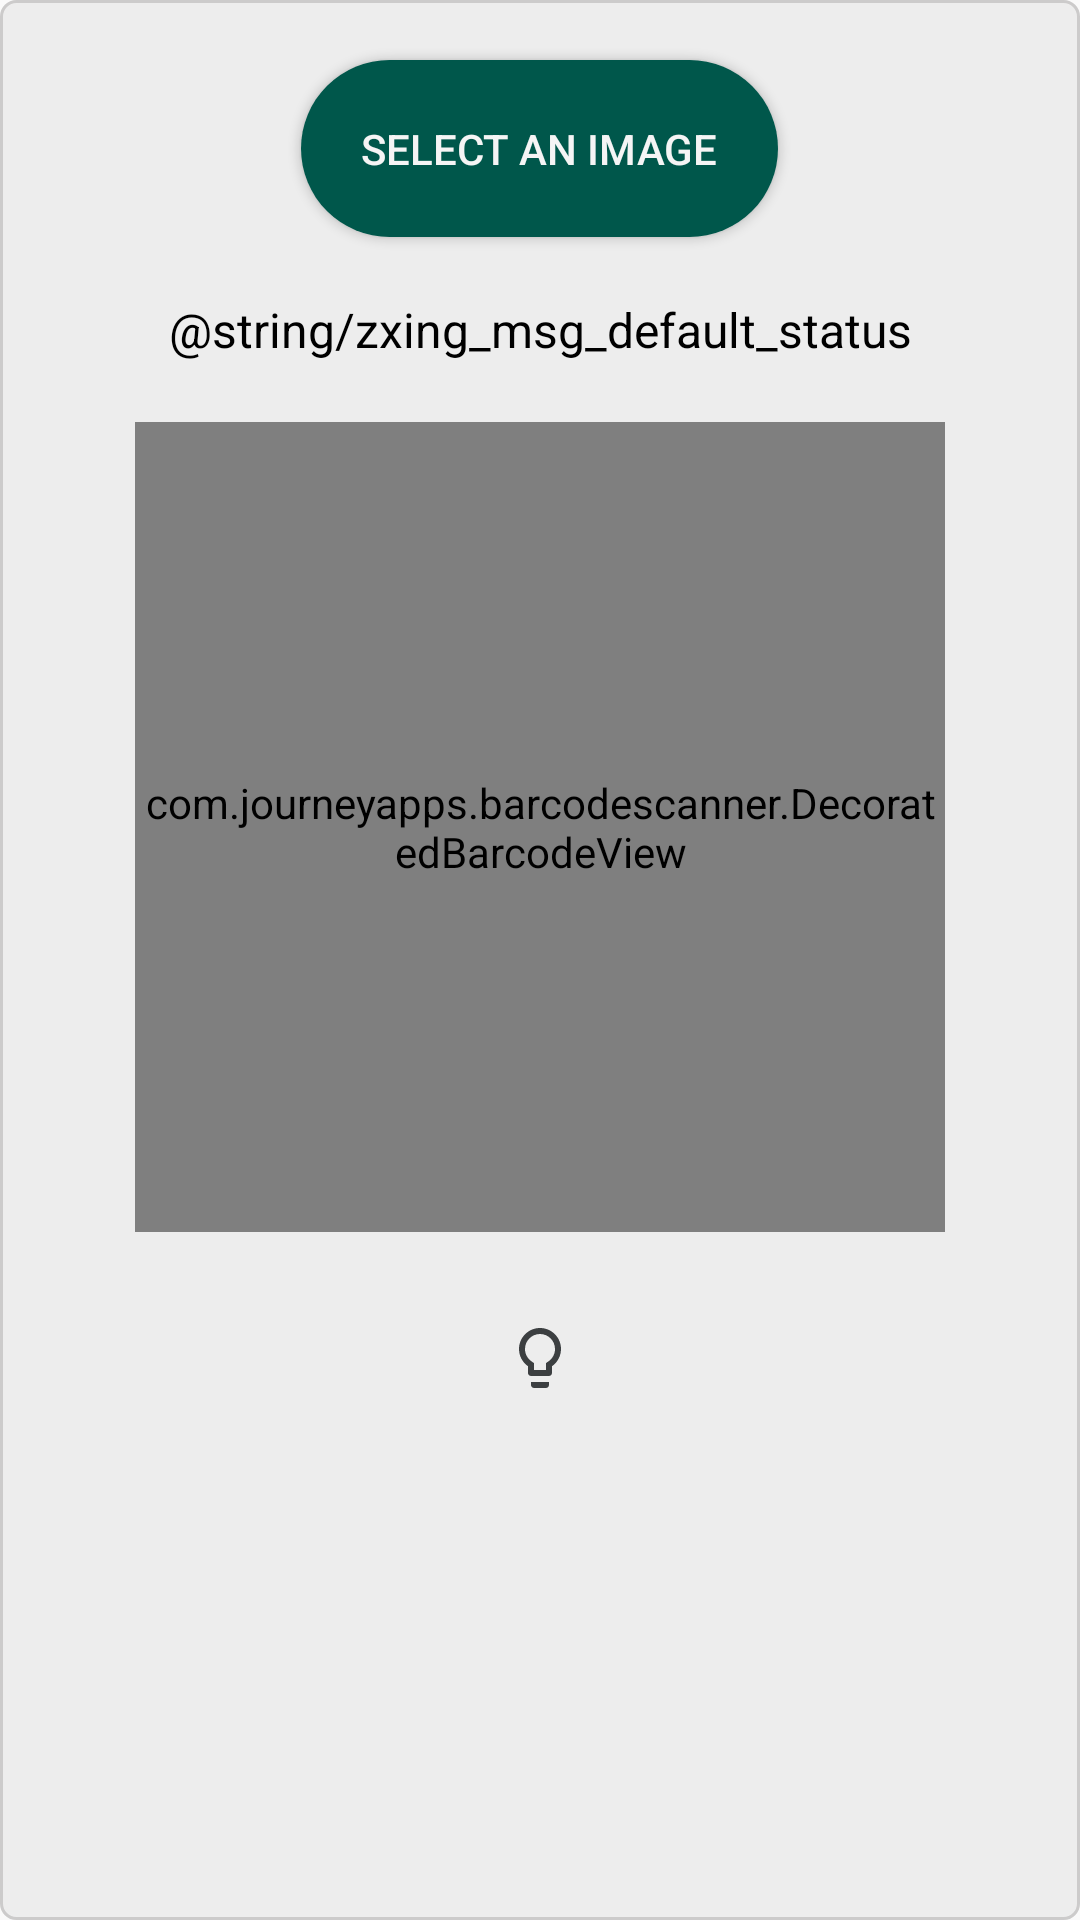

Screen size 1080w x 1920h. Icon name, then its box in pixels as (x1, y1, x2, y2):
lightbulb: (519, 1328, 561, 1388)
